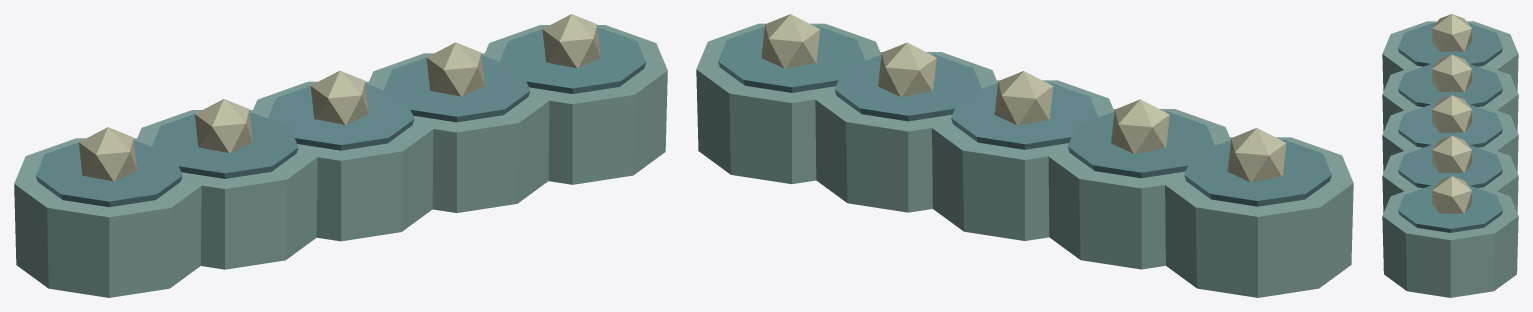
Rendered from map-exclusive-v3__tide_15.glb.
The picture shows the model from 3 angles, left to right: view 1: azimuth 30°, elevation 25°; view 2: azimuth 150°, elevation 25°; view 3: azimuth 270°, elevation 25°; orthographic projection. The views are drawn at different scales.
Visible parts, largest first — view 1: tide_15; view 2: tide_15; view 3: tide_15.
Boxes of the visible parts, box(x1,y1,x2,y2) form: tide_15: box(14, 14, 667, 297); tide_15: box(696, 14, 1353, 297); tide_15: box(1382, 14, 1518, 297).
Size of the model in its own units: 3.29 by 0.655 by 0.8666.
